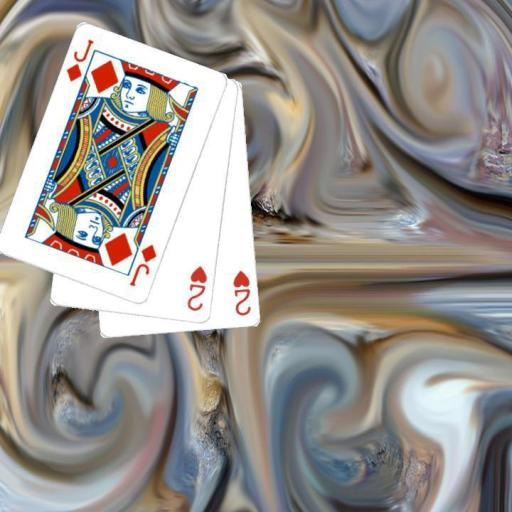card-corner: (126, 241, 158, 289), (64, 36, 96, 84), (184, 263, 209, 313), (230, 267, 254, 318)
